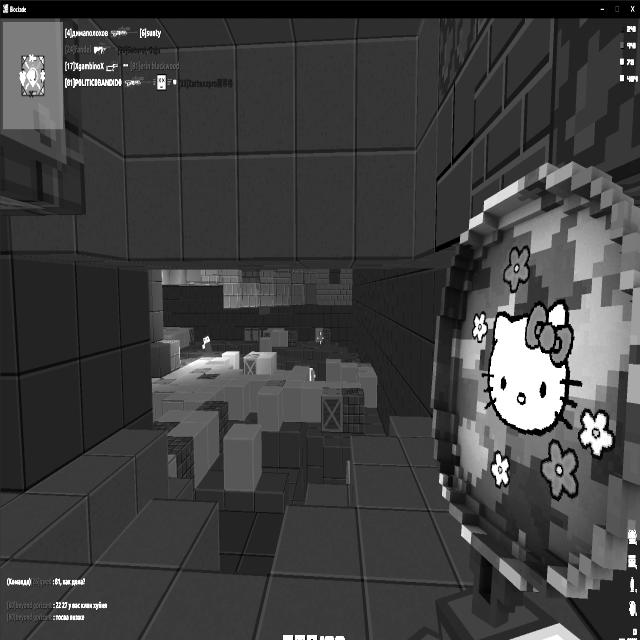Head: (202, 336, 211, 345)
Player: (202, 337, 214, 352)
